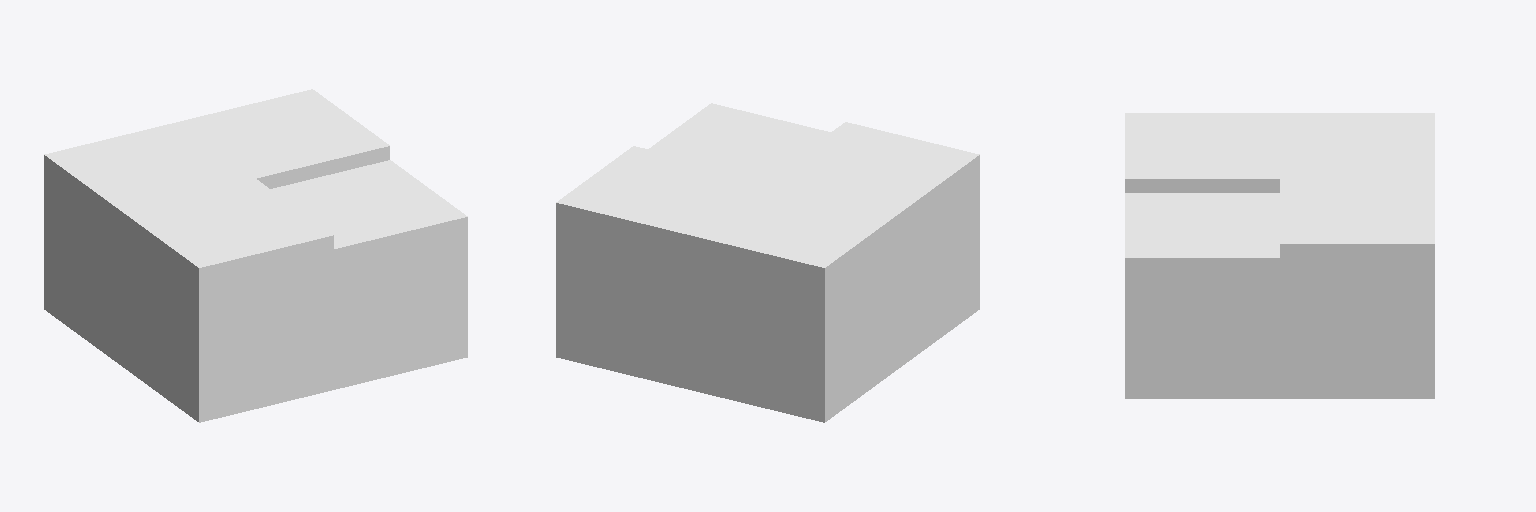
File: Road_2.obj
The picture shows the model from 3 angles: view 1: azimuth 30°, elevation 25°; view 2: azimuth 150°, elevation 25°; view 3: azimuth 270°, elevation 25°; orthographic projection.
Parts seen in each view (by area): view 1: Road_2; view 2: Road_2; view 3: Road_2.
Part boxes in pixels (x1,y1,x2,y2): Road_2: (44, 89, 467, 422); Road_2: (556, 103, 979, 422); Road_2: (1125, 113, 1434, 398).
Size of the model in its own units: 20 by 11 by 20.